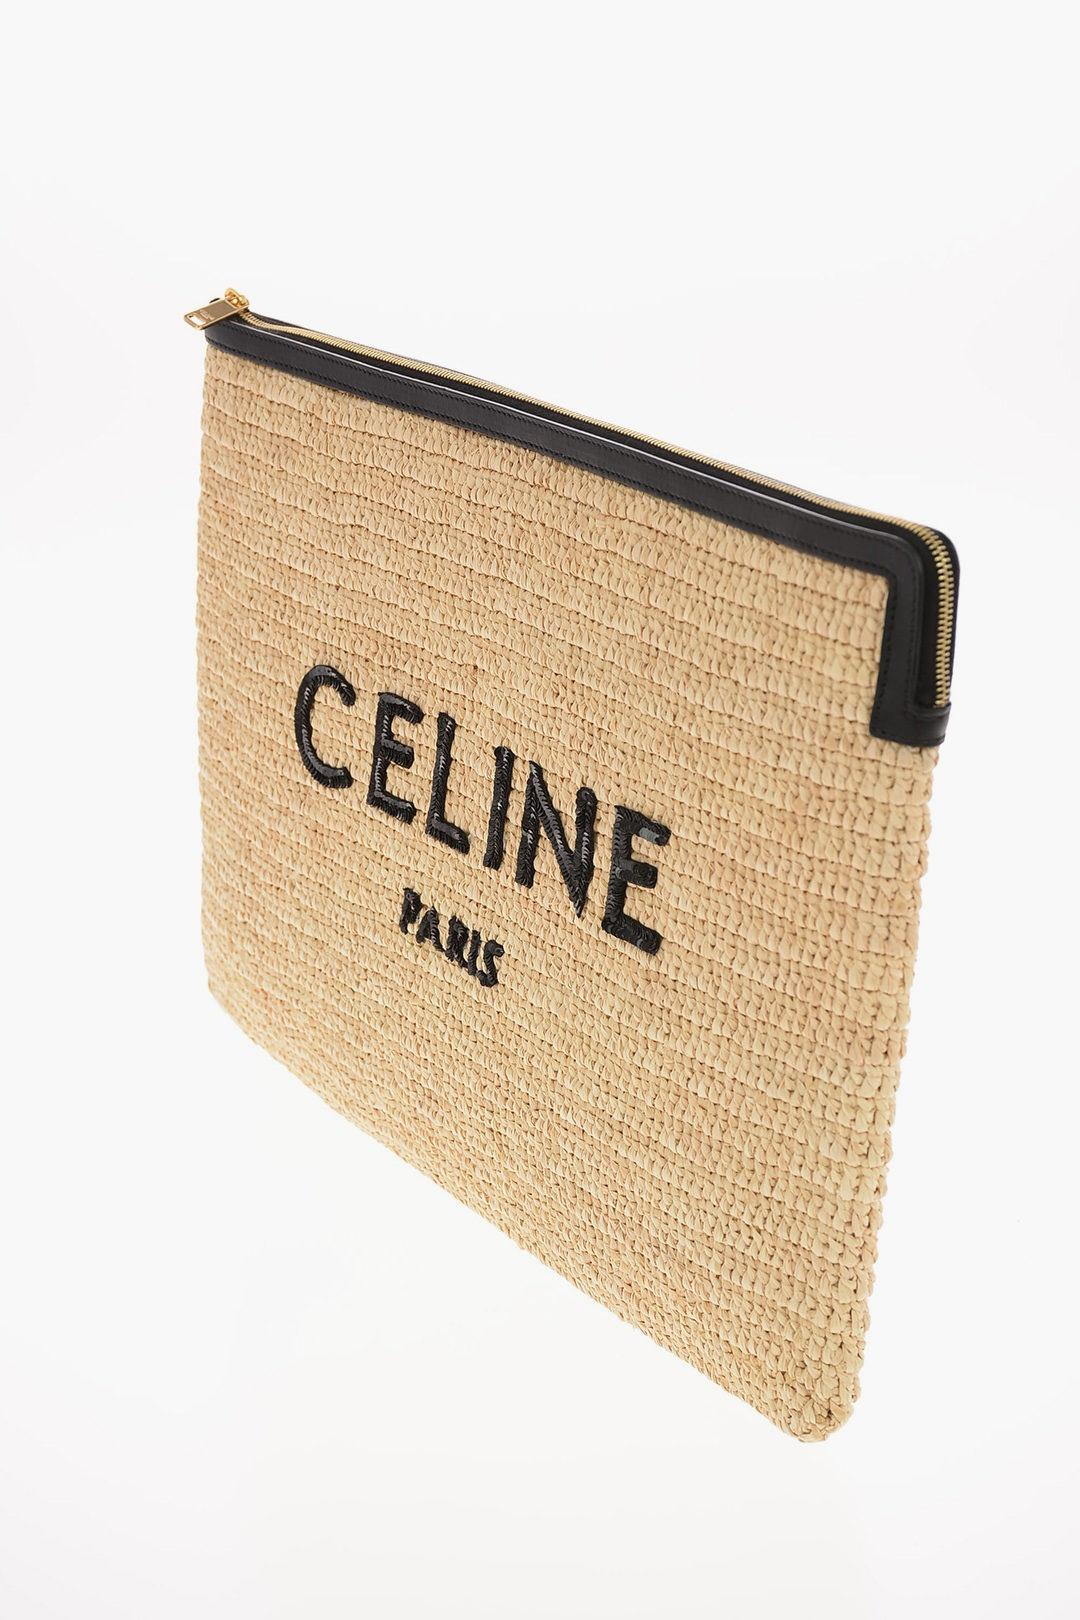CELINE: (290, 661, 673, 955)
